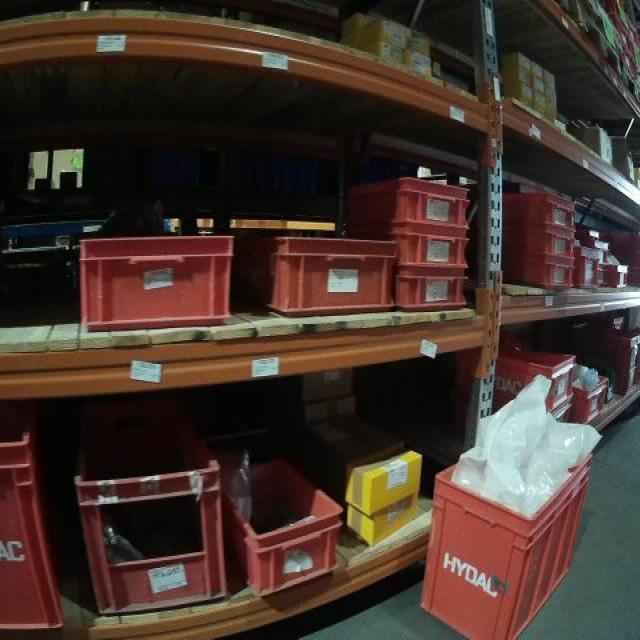small_load_carrier: (419, 414, 601, 637), (72, 449, 234, 623), (227, 446, 349, 603), (2, 417, 78, 632), (76, 230, 234, 331), (240, 232, 398, 316), (333, 172, 474, 232), (473, 341, 582, 400), (377, 224, 472, 268), (389, 268, 472, 315), (496, 188, 578, 227), (563, 370, 618, 428), (501, 228, 578, 261), (501, 259, 572, 292), (572, 245, 603, 292), (602, 263, 631, 287)
